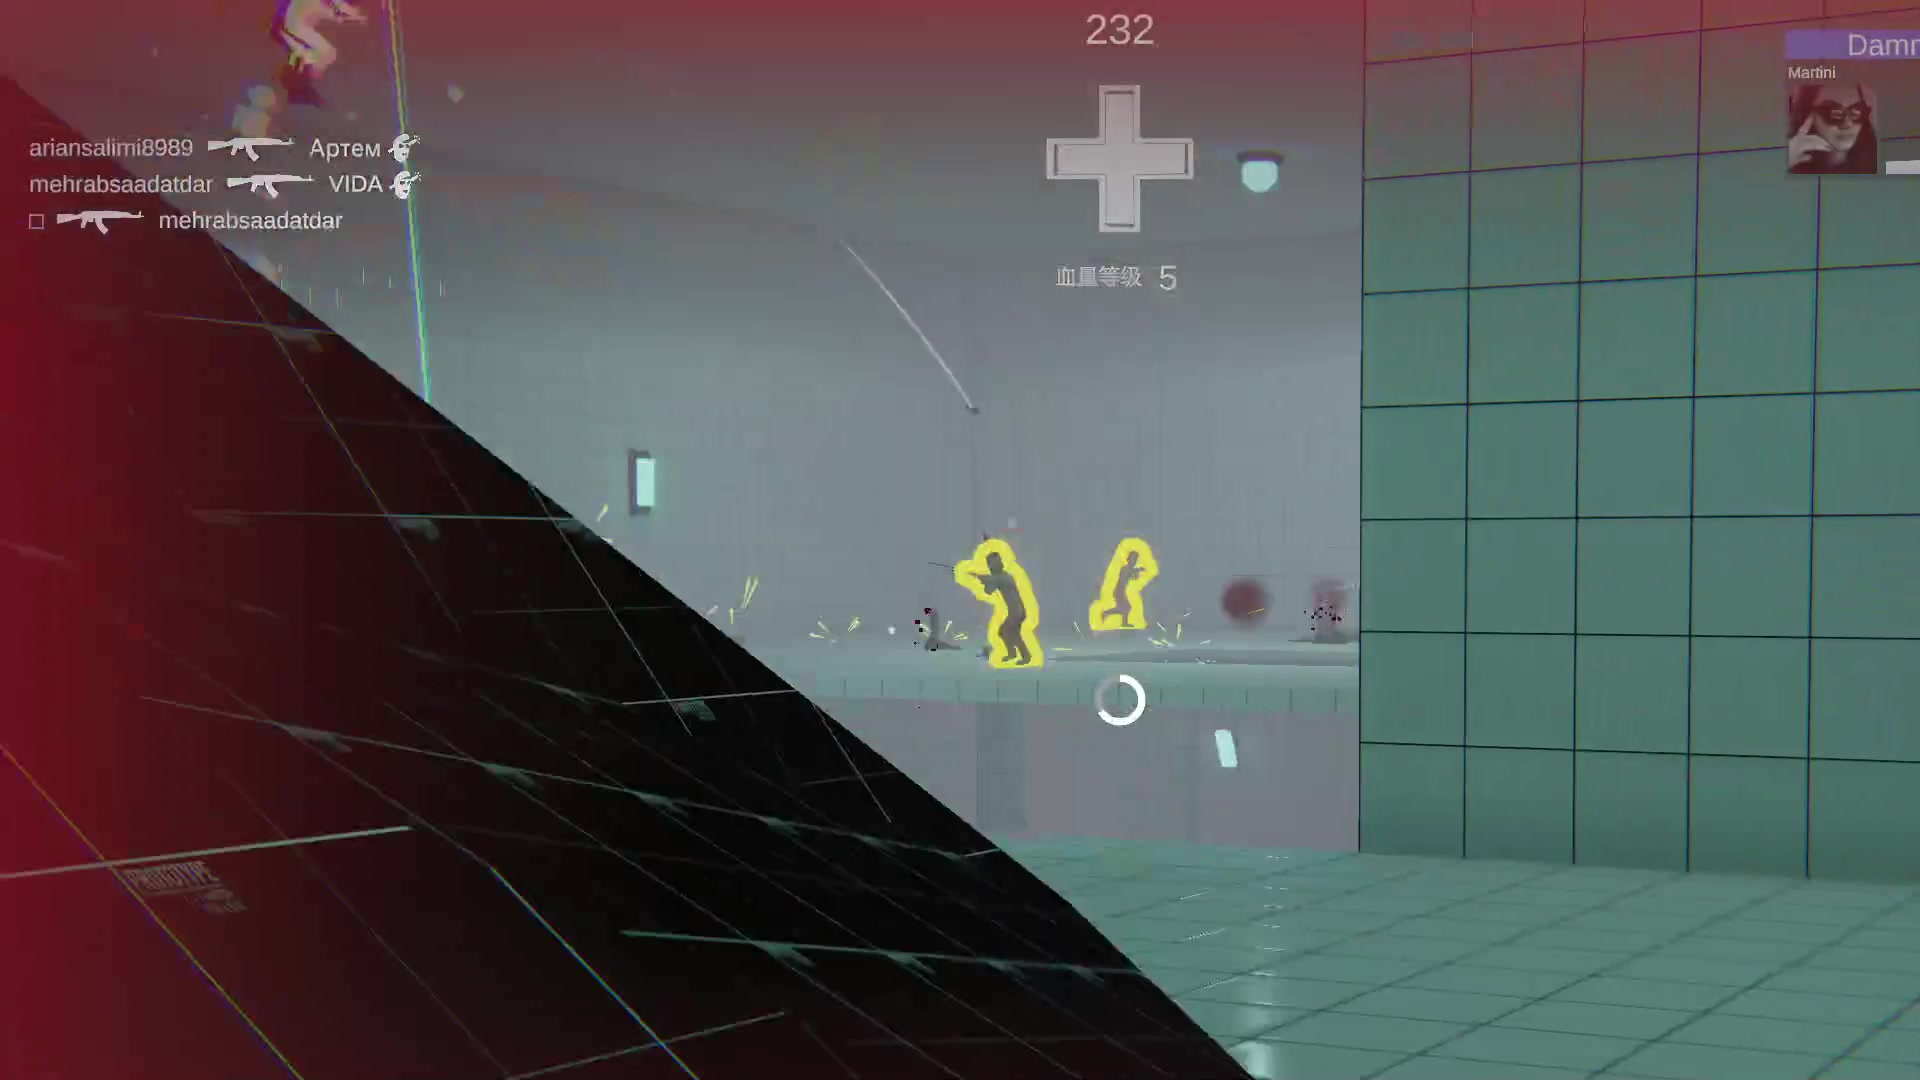human: (977, 545, 1023, 668), (1102, 533, 1140, 634)
